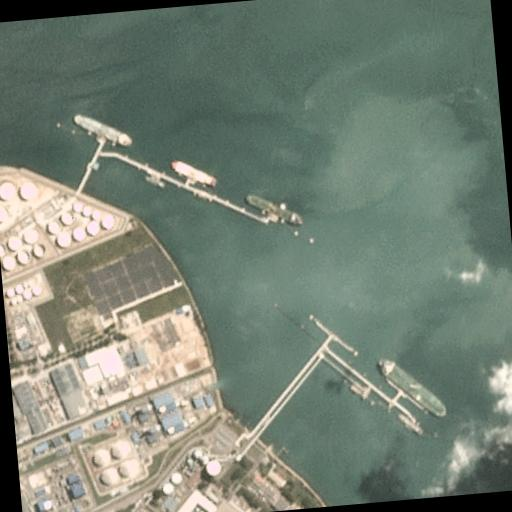ship: (376, 350, 446, 420), (71, 108, 132, 148), (242, 190, 302, 228), (168, 157, 216, 190)
